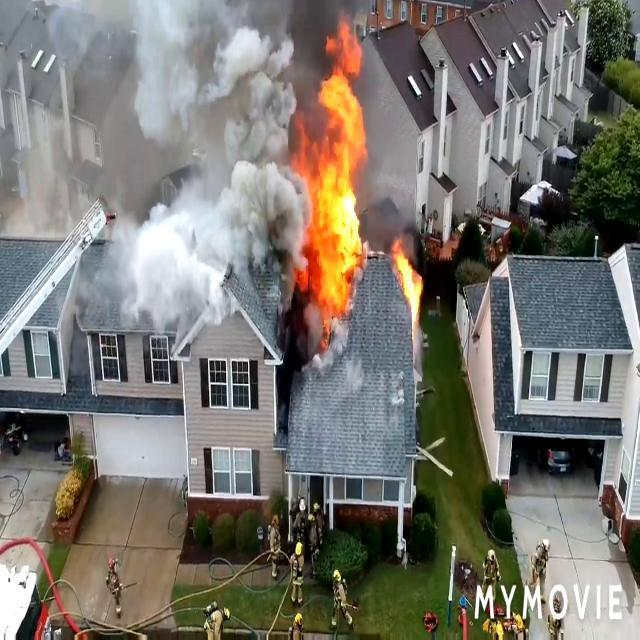Fire: (306, 58, 371, 353), (398, 247, 424, 335)
Smoke: (98, 17, 310, 332)
